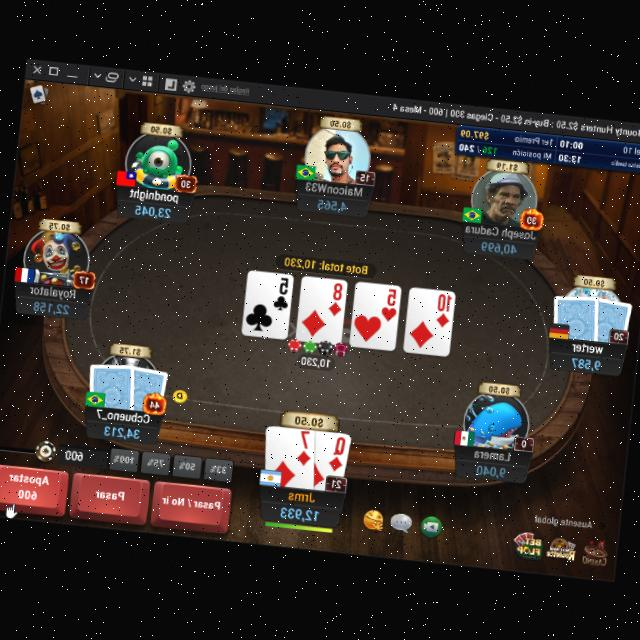5c: (270, 274, 292, 314)
5h: (378, 284, 400, 324)
7d: (294, 428, 316, 468)
8d: (326, 280, 346, 318)
Qd: (325, 432, 347, 472)
Td: (433, 290, 453, 328)
bet_text: (298, 353, 332, 369)
card_back: (548, 286, 602, 342), (84, 356, 138, 411), (586, 293, 634, 344), (123, 362, 169, 413)
dealer: (170, 386, 190, 404)
hero_active: (0, 459, 234, 533)
pot_text: (282, 254, 368, 274), (293, 412, 324, 427)
stack_text: (278, 502, 320, 524), (31, 297, 71, 315), (133, 201, 172, 219), (104, 421, 142, 439), (479, 238, 518, 255), (474, 461, 507, 478), (570, 354, 602, 371), (316, 196, 346, 212)
